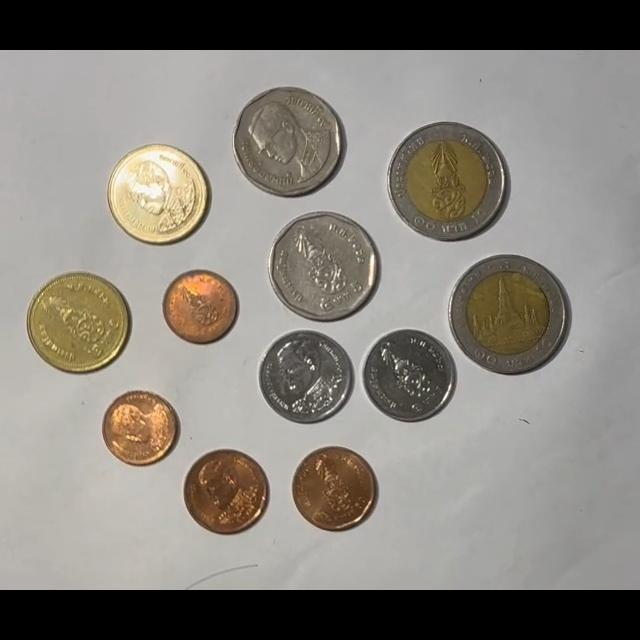1-baht: (362, 329, 458, 423), (258, 329, 353, 423)
10-baht: (449, 254, 570, 375), (387, 122, 508, 241)
2-baht: (27, 271, 130, 374), (107, 143, 210, 245)
25-satang: (102, 390, 180, 466), (163, 269, 238, 344)
5-baht: (233, 87, 345, 198), (268, 212, 380, 323)
50-satang: (183, 449, 270, 535), (291, 446, 376, 532)
